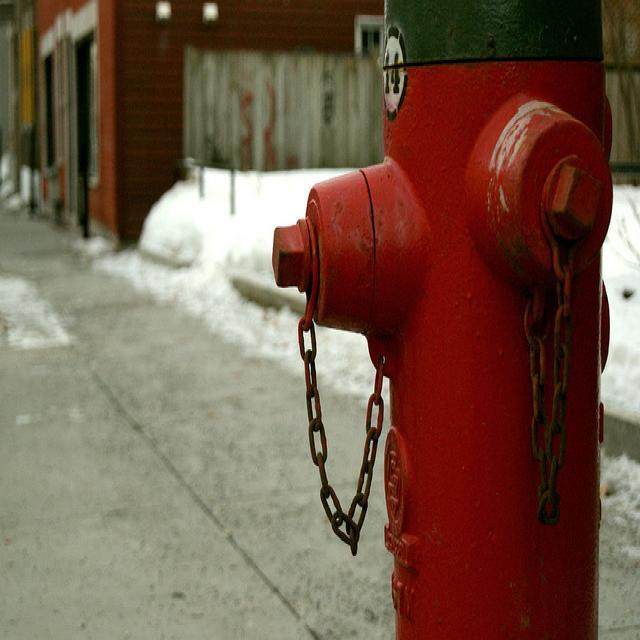fire_hydrant: (270, 1, 602, 626)
